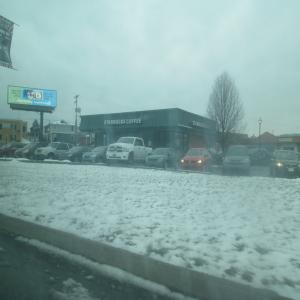Vehicle-registration-plate: (289, 168, 295, 174)
